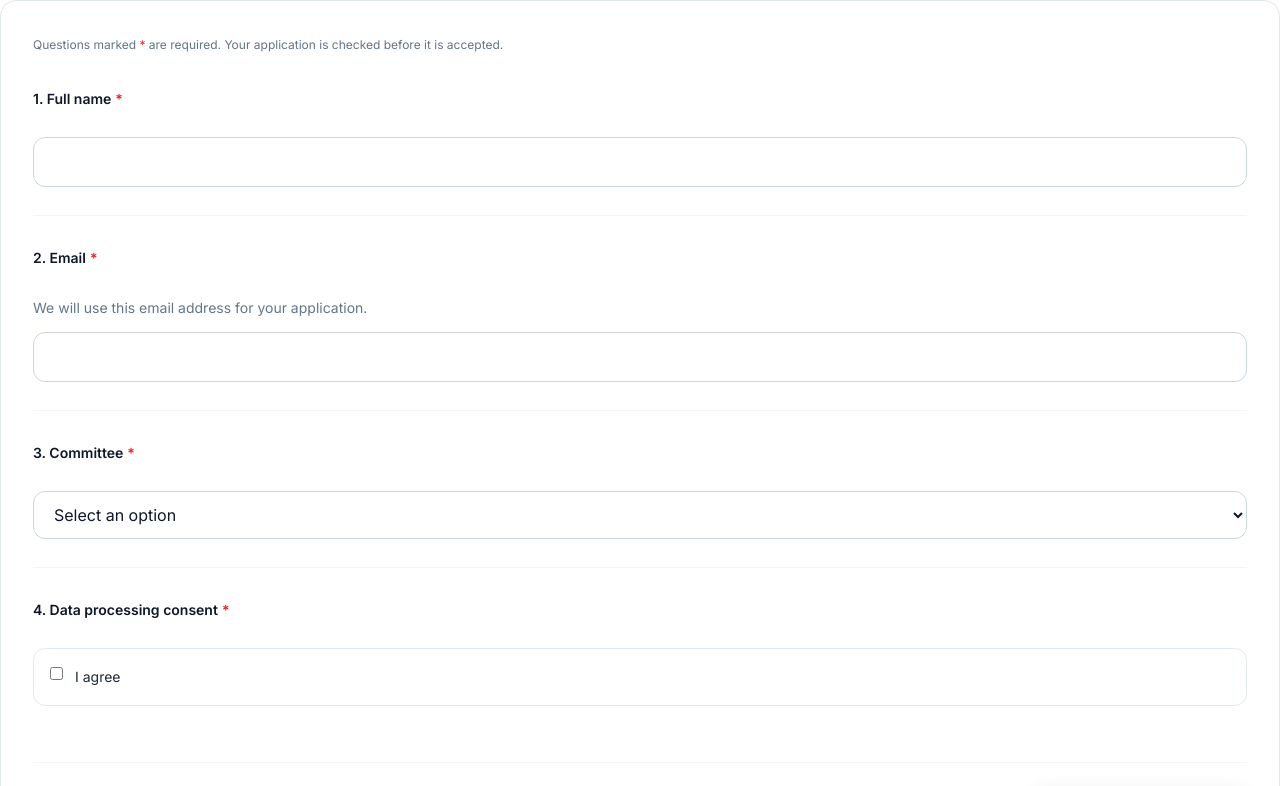
Test: maps server-side answer errors back to the affected input
The image size is (1280, 786).
In the field labelled "Full name": (640, 162) [33, 137, 1247, 187], type "Example applicant"
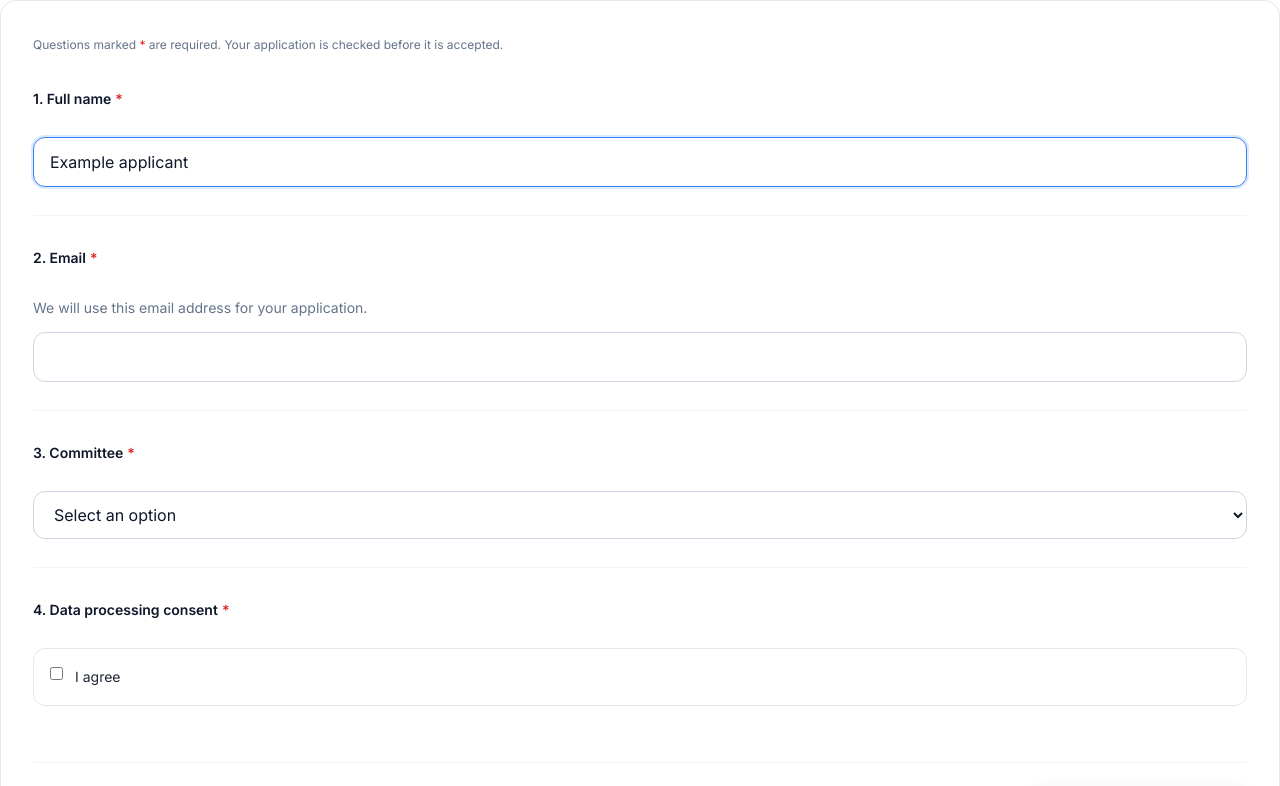
In the field labelled "Email": (640, 357) [33, 332, 1247, 382], type "applicant@example.com"
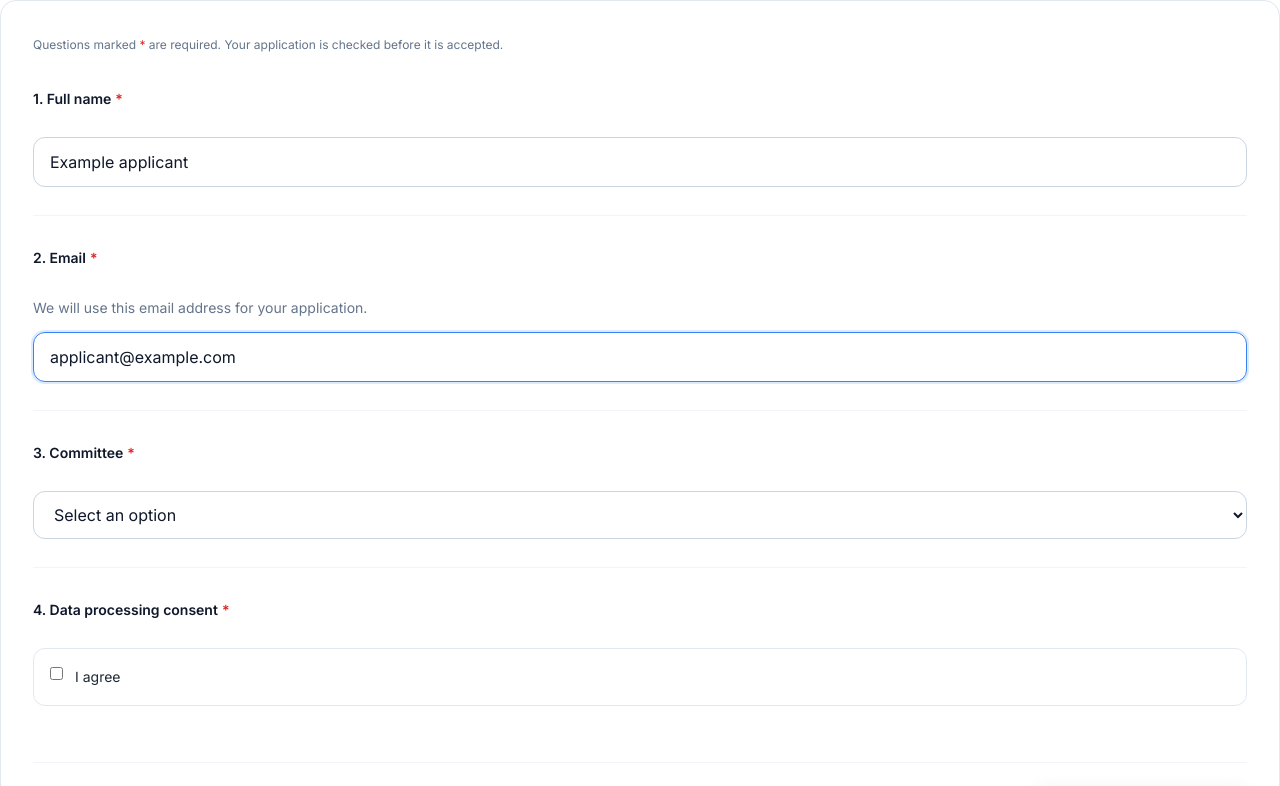
Select "Assembly" in the dropdown labelled "Committee": (640, 515) [33, 491, 1247, 539]
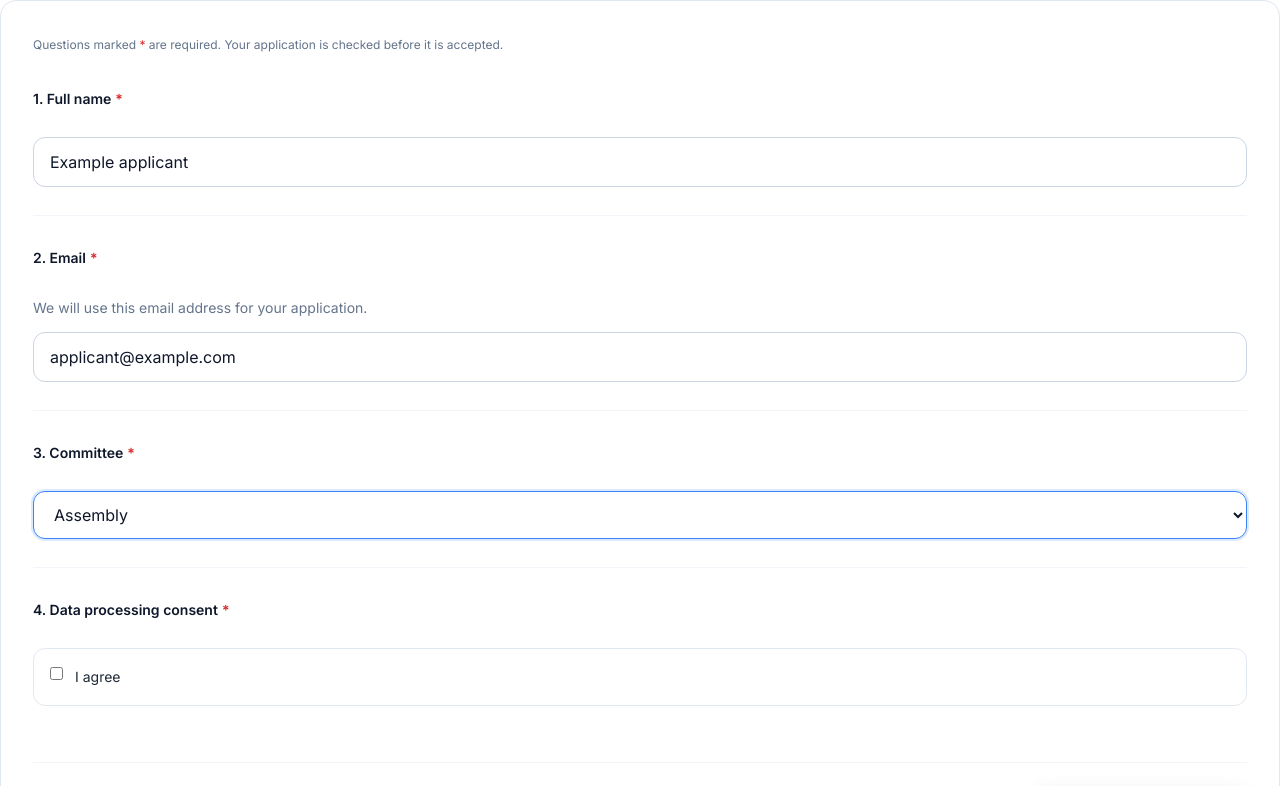
Click the checkbox named "Data processing consent I agree": (56, 674) [50, 667, 63, 680]
(page scrolled)
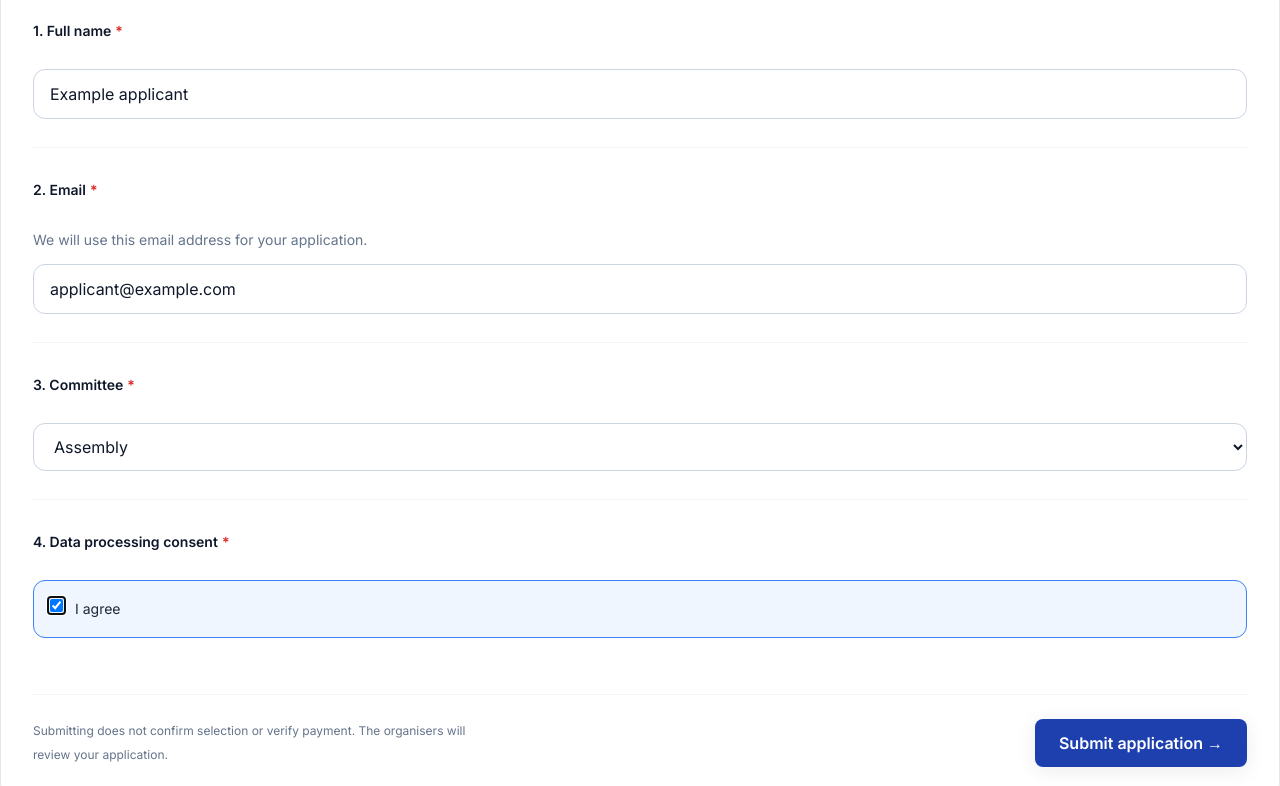
Click the button "Submit application →": (1141, 743) [1035, 719, 1247, 767]
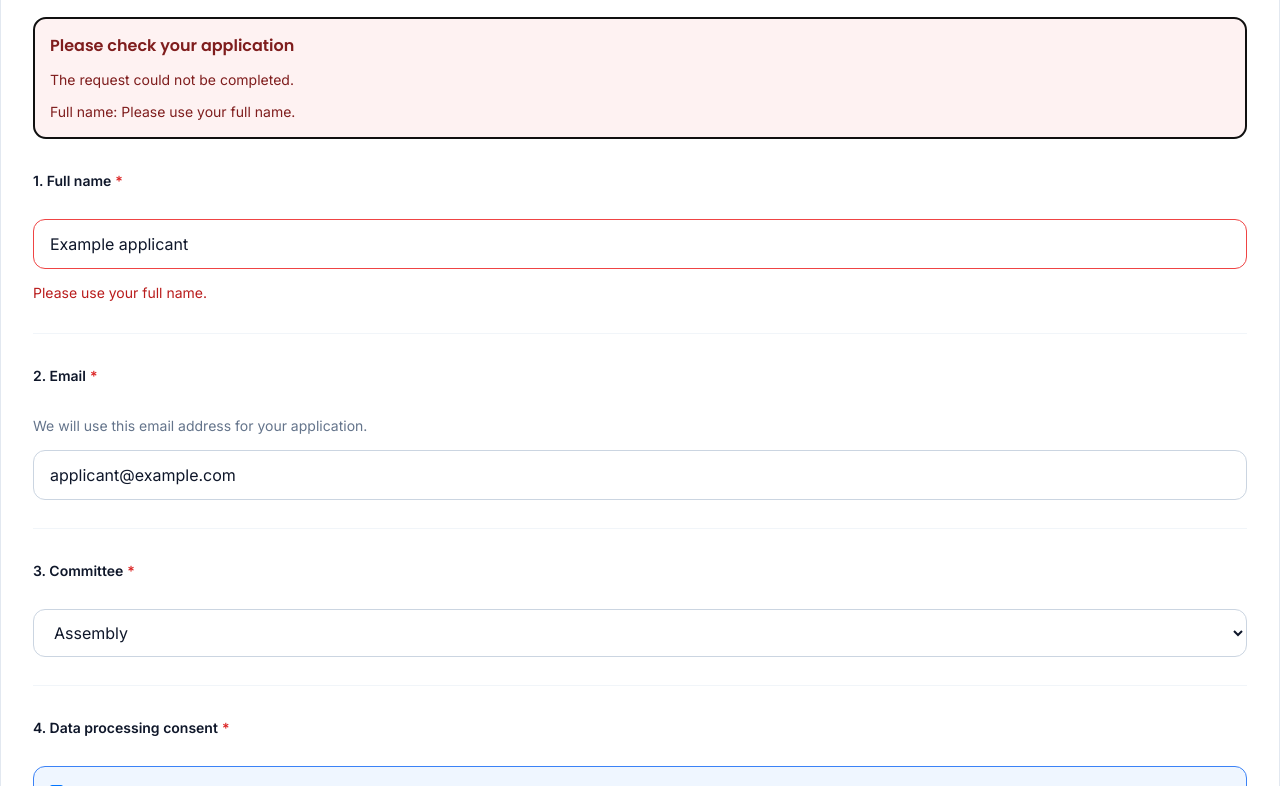
Now the list item "Full name: Please use your full name." is shown, box [50, 103, 295, 120]
